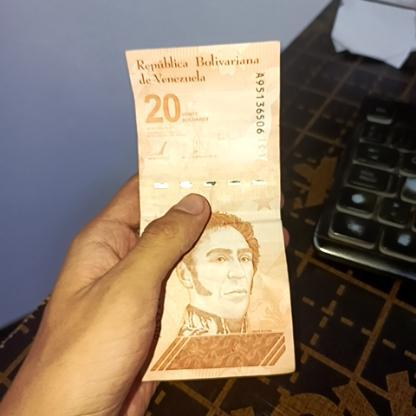twenty-front-vef: (131, 43, 297, 382)
